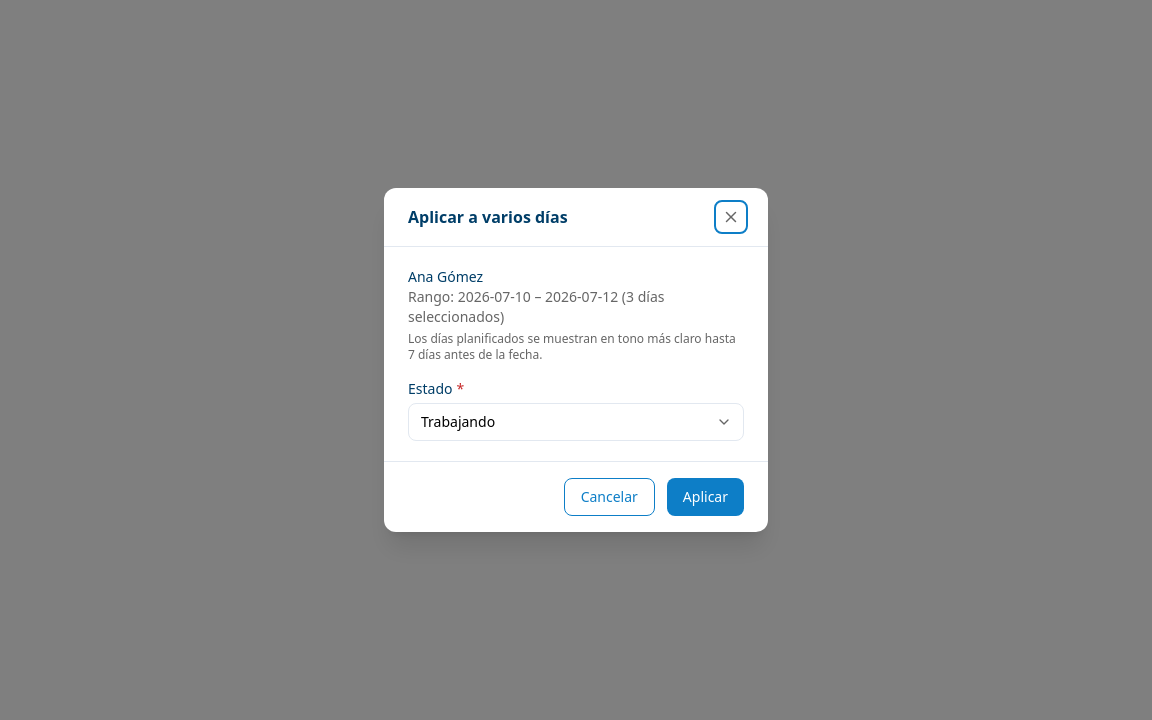
Test: RangeEditModal: validación de motivo obligatorio › motivo "otros" sin texto bloquea el envío y muestra el error
Step 1. Select "Fuera del trabajo" in the dropdown labelled "Estado" → x=576, y=422, box x1=408 y1=403 x2=744 y2=441
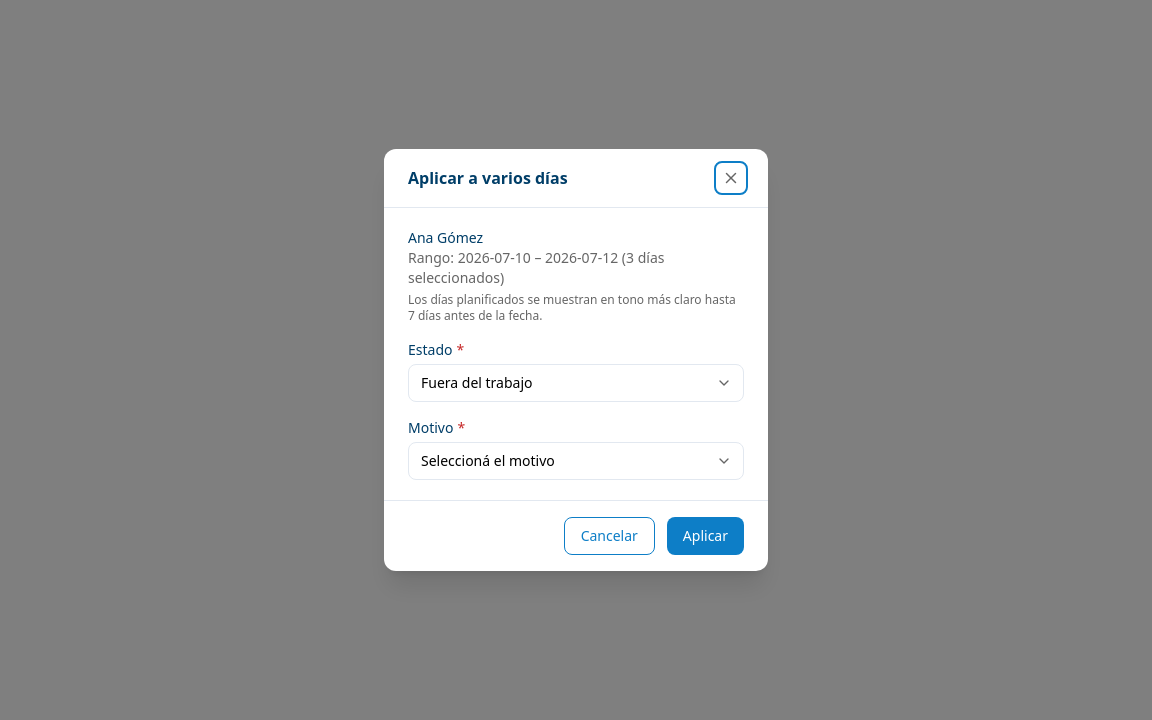
Step 2. Select "Otros" in the dropdown labelled "Motivo" → x=576, y=461, box x1=408 y1=442 x2=744 y2=480
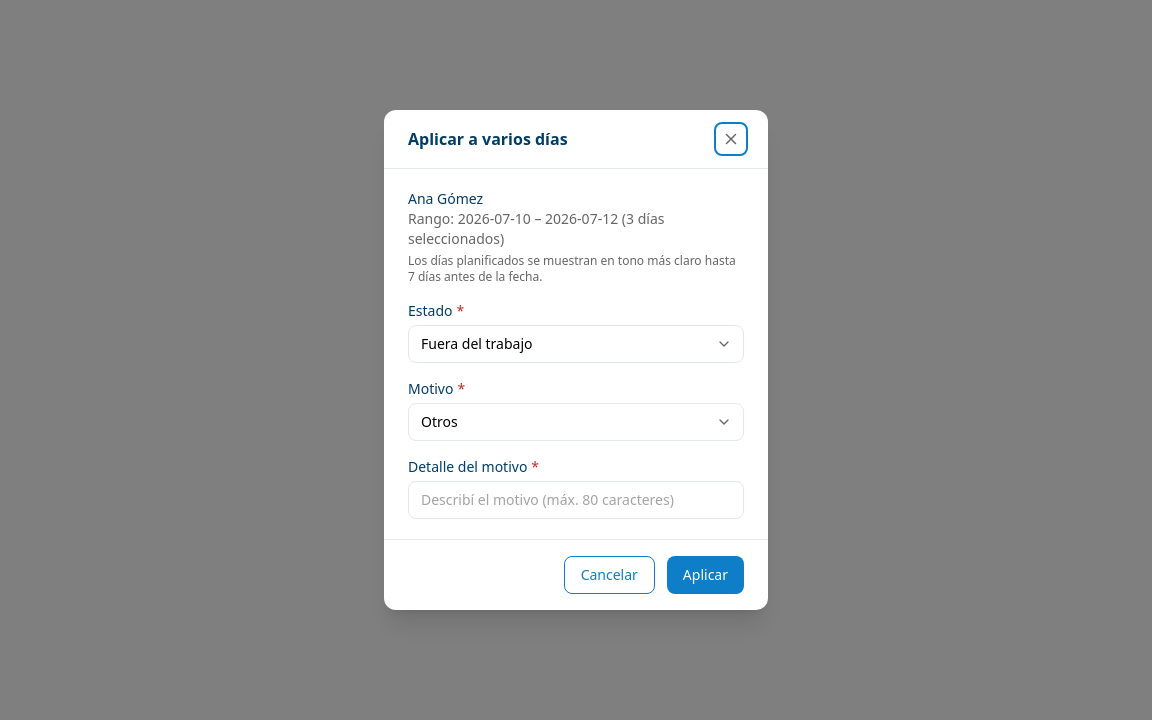
Step 3. Submit the form with id "range-edit-form", box x1=408 y1=189 x2=744 y2=519
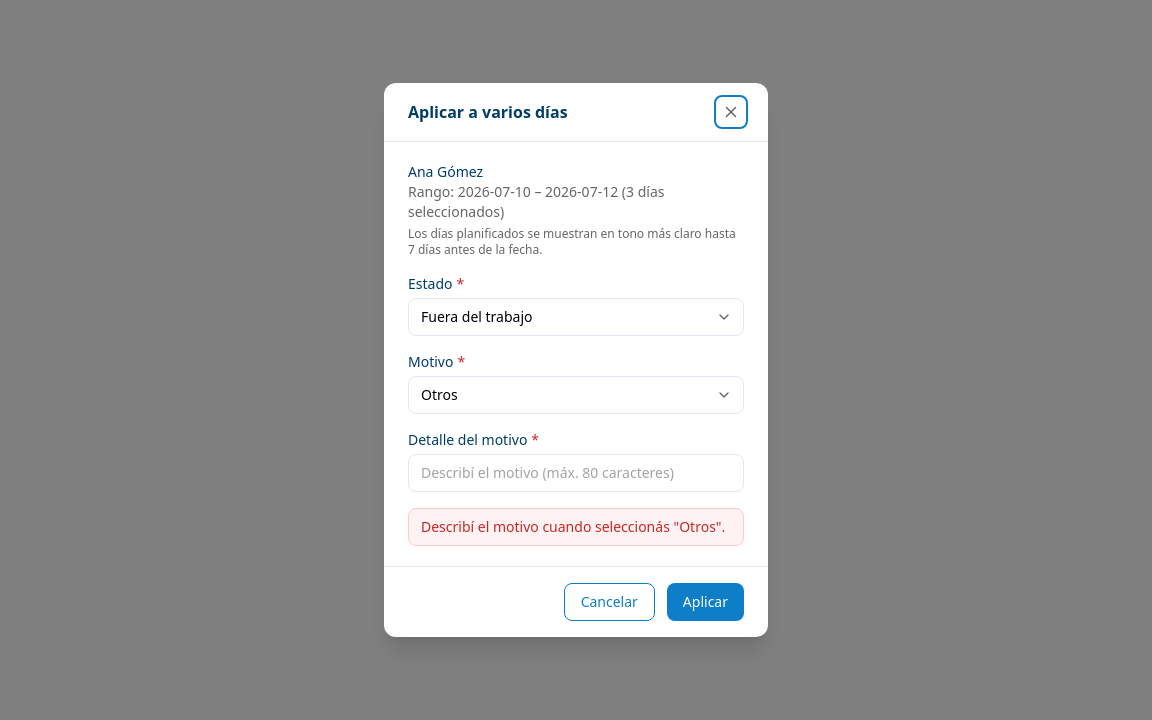
Result: the text "Describí el motivo cuando seleccionás \"Otros\"." is shown at x1=408 y1=508 x2=744 y2=546
